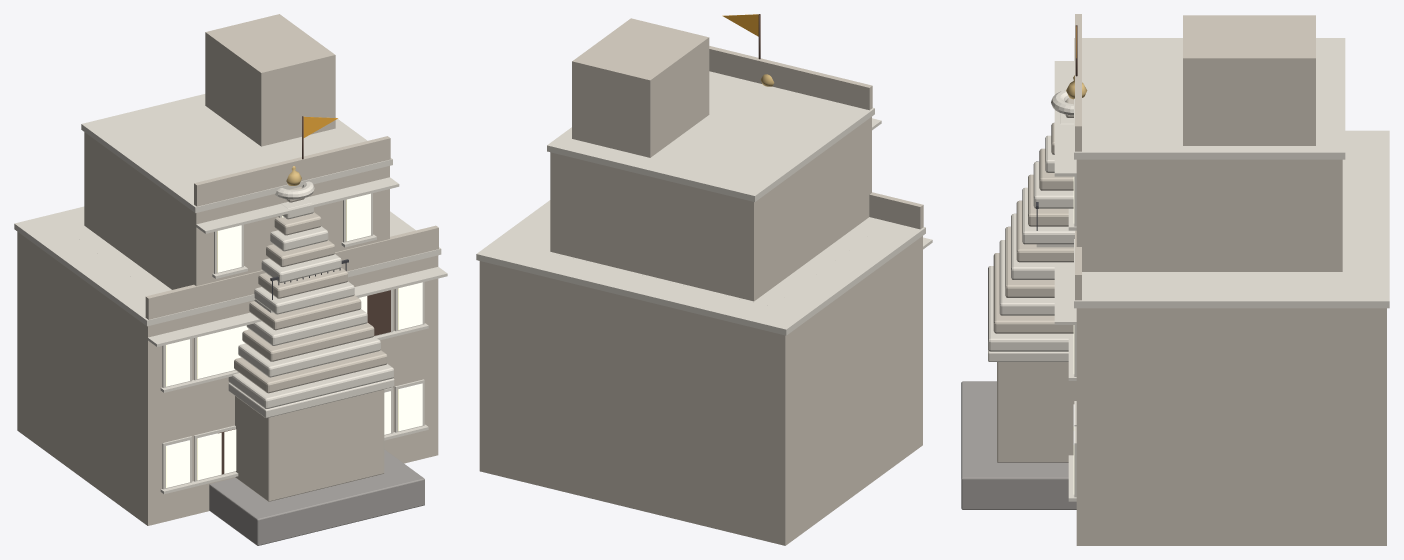
The model's file is city.glb.
3 renders of one model, left to right at view 1: azimuth 30°, elevation 25°; view 2: azimuth 150°, elevation 25°; view 3: azimuth 270°, elevation 25°, orthographic. The views are drawn at different scales.
Visible parts, largest first — view 1: NeighbourC, NeighbourB, Temple, NeighbourA; view 2: NeighbourC, NeighbourB, NeighbourA, Temple; view 3: NeighbourC, NeighbourB, Temple, NeighbourA.
Part boxes in pixels (x1,y1,x2,y2): NeighbourC: (14,206,447,525); NeighbourB: (81,14,399,481); Temple: (209,116,424,545); NeighbourA: (65,225,415,486); NeighbourC: (476,194,932,545); NeighbourB: (547,18,881,301); NeighbourA: (530,192,889,306); Temple: (722,14,774,86); NeighbourC: (1054,130,1389,545); NeighbourB: (1036,14,1345,468); Temple: (961,25,1087,509); NeighbourA: (1068,159,1345,479).
Bounding box in the file's own units: 9.12 × 11.3 × 9.66.
